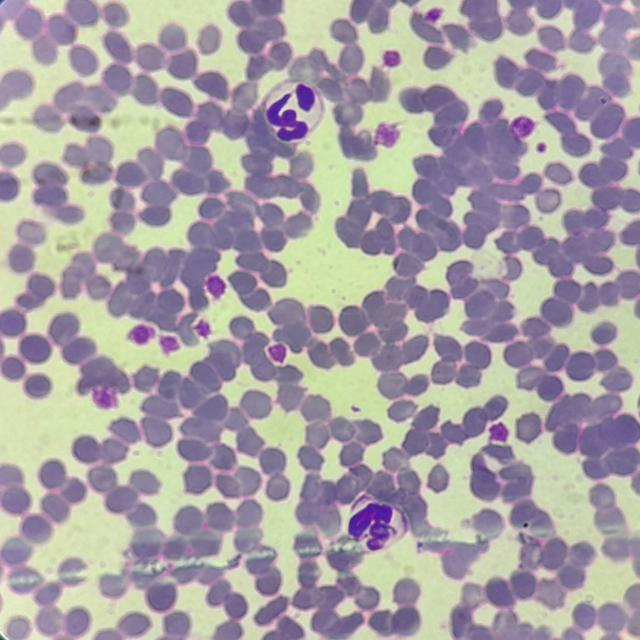Neutrofilo: (262, 81, 326, 145), (349, 492, 408, 554)
